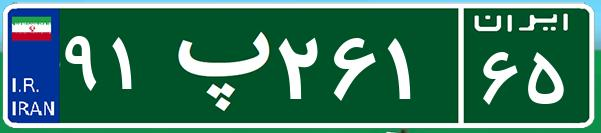1: (385, 28, 445, 110), (110, 28, 158, 105)
2: (273, 28, 330, 110)
5: (525, 38, 570, 115)
6: (330, 28, 385, 110), (475, 38, 525, 113)
9: (57, 26, 110, 107)
پ: (158, 15, 273, 115)
